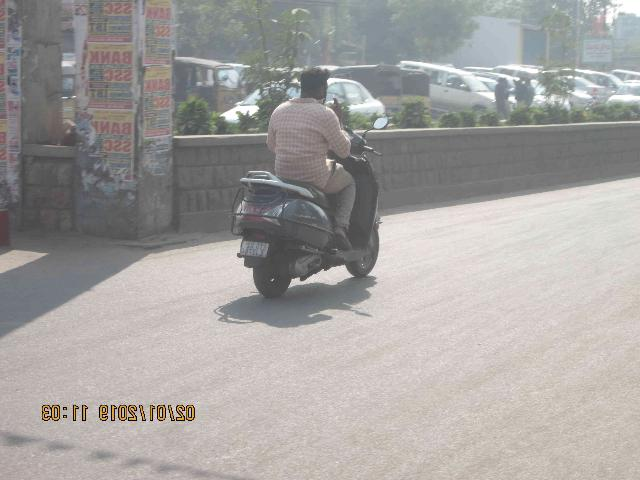motor: (229, 115, 391, 302), (299, 67, 333, 107)
